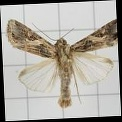Spodoptera litura: (6, 16, 119, 109)
